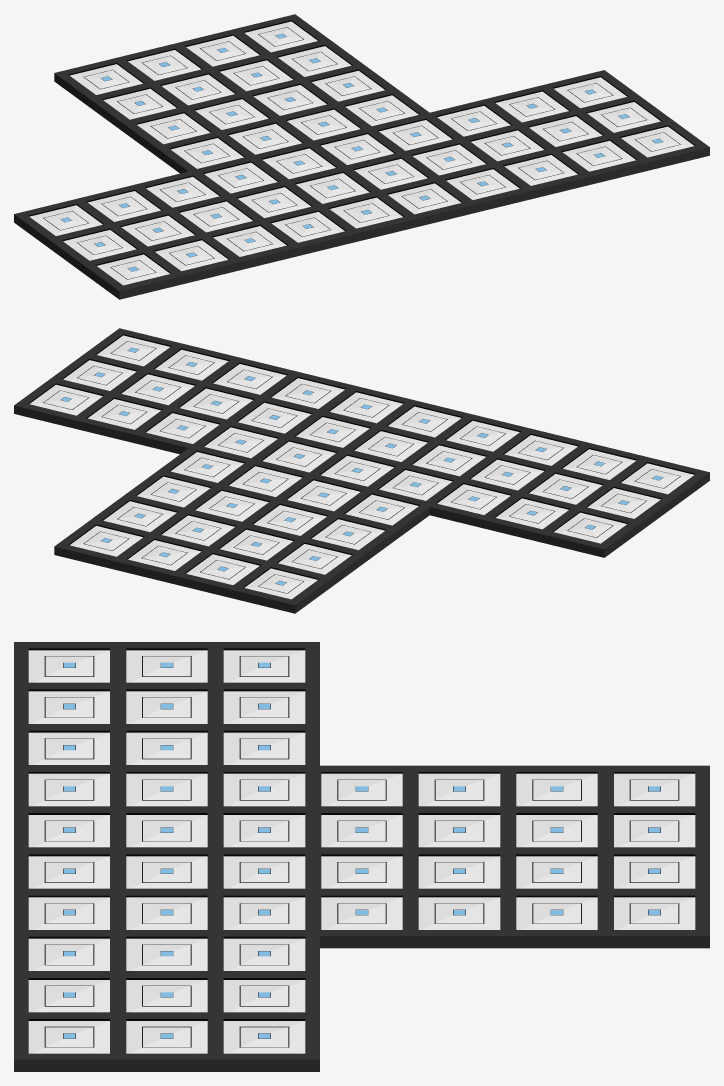
File: Floor4.fbx
3 renders of one model, top to bottom at view 1: azimuth 30°, elevation 25°; view 2: azimuth 150°, elevation 25°; view 3: azimuth 270°, elevation 25°, orthographic. The views are drawn at different scales.
Visible parts, largest first — view 1: _Floor4; view 2: _Floor4; view 3: _Floor4.
Part boxes in pixels (<box>): _Floor4: <box>14,14,709,299</box>; _Floor4: <box>14,328,709,613</box>; _Floor4: <box>14,642,709,1071</box>.
Size of the model in its own units: 40.55 by 0.5652 by 28.55.
